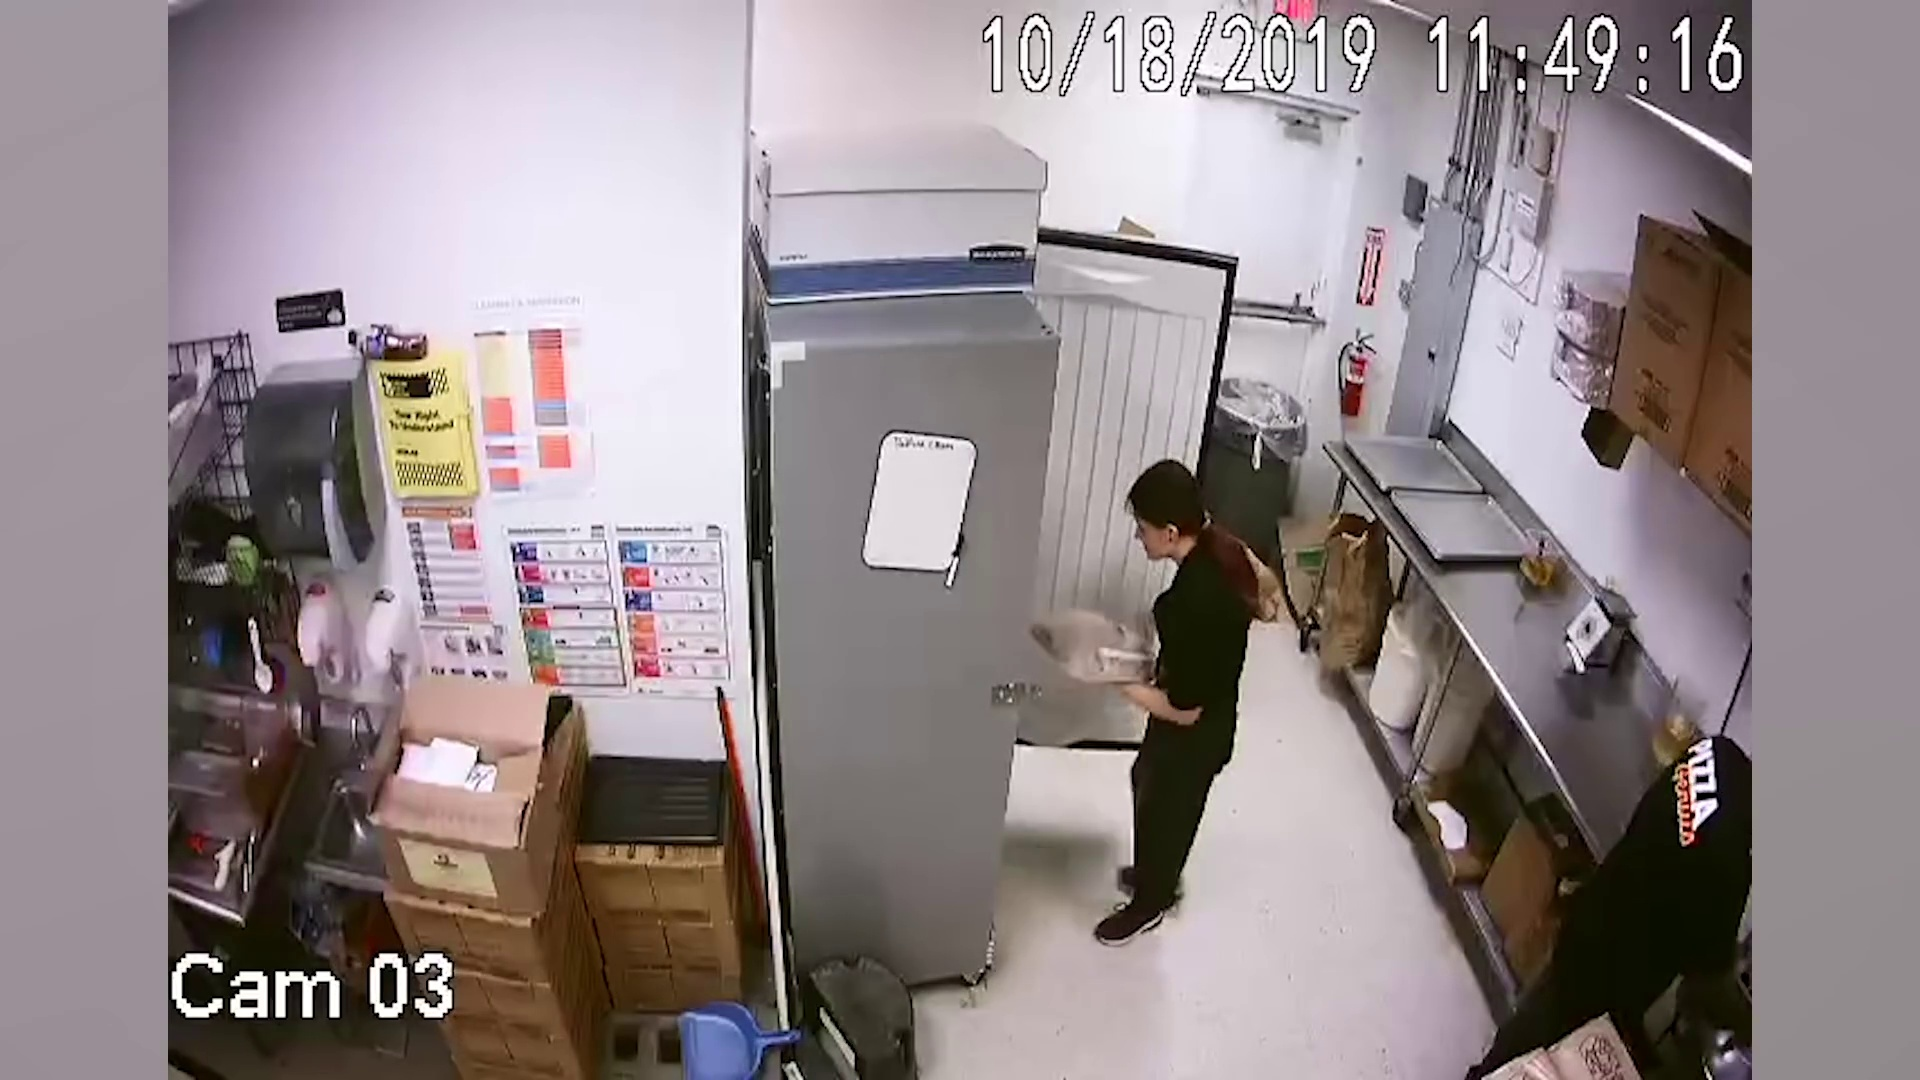face: (1133, 506, 1171, 557)
